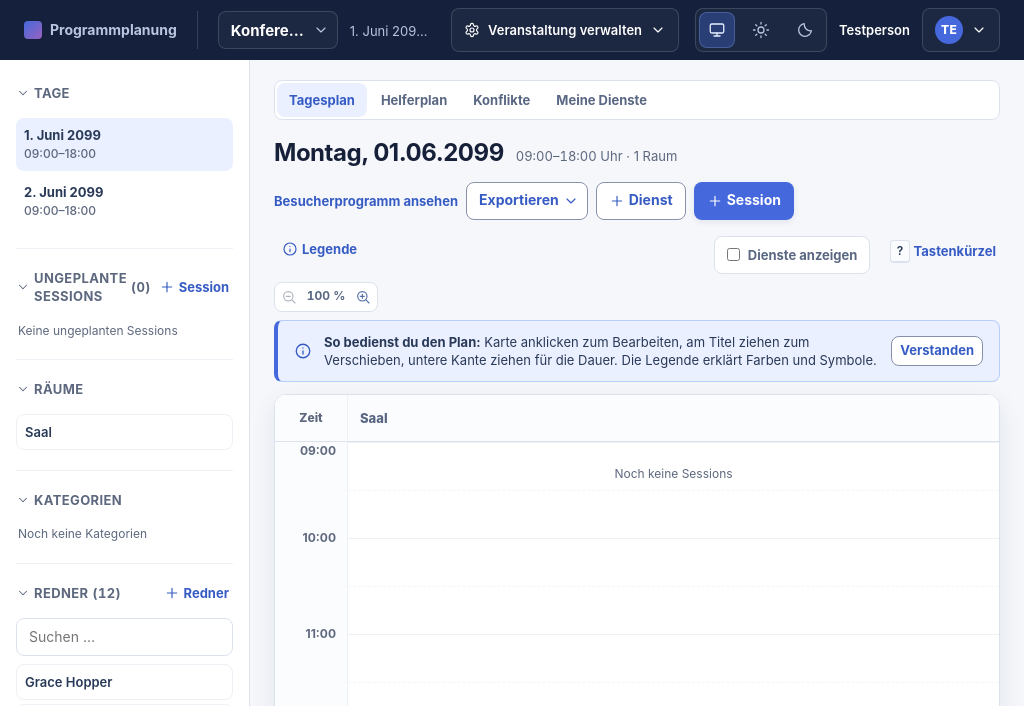
filters long speaker lists
The width and height of the screenshot is (1024, 706).
Type "hopper" into the search field named "Redner durchsuchen" at (124, 637), box left=16, top=618, right=233, bottom=656
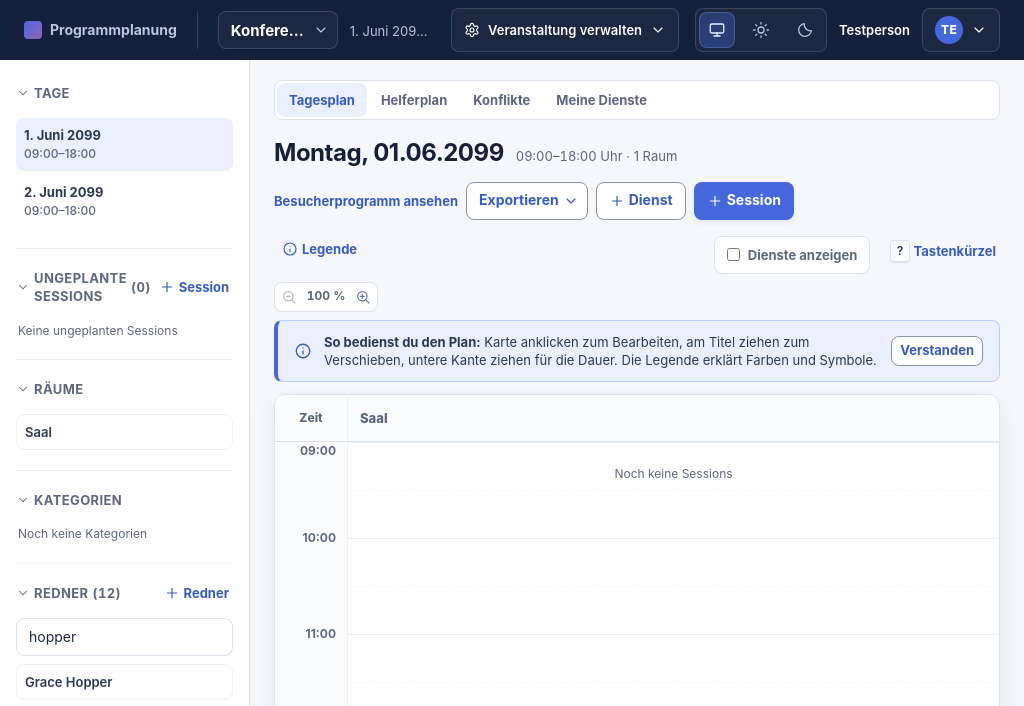
Expected: the button "Grace Hopper" is shown, left=17, top=665, right=230, bottom=699
Replace the text in the search field named "Redner durchsuchen" with "niemand" at (124, 637), box left=16, top=618, right=233, bottom=656
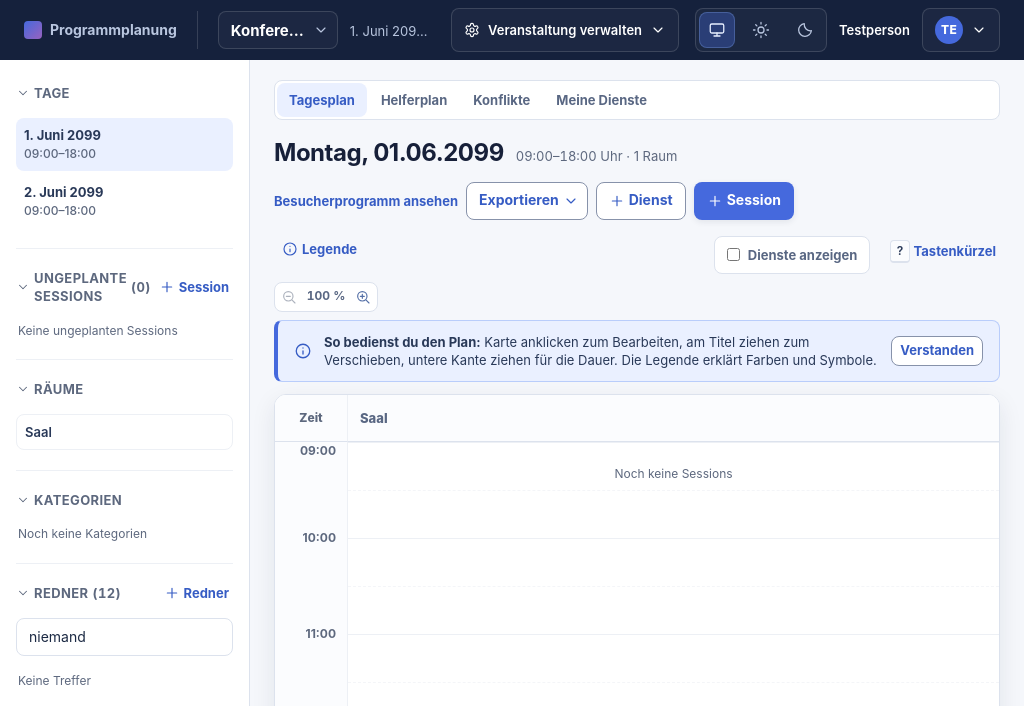
Now the text "Keine Treffer" is shown, box left=18, top=673, right=91, bottom=688
